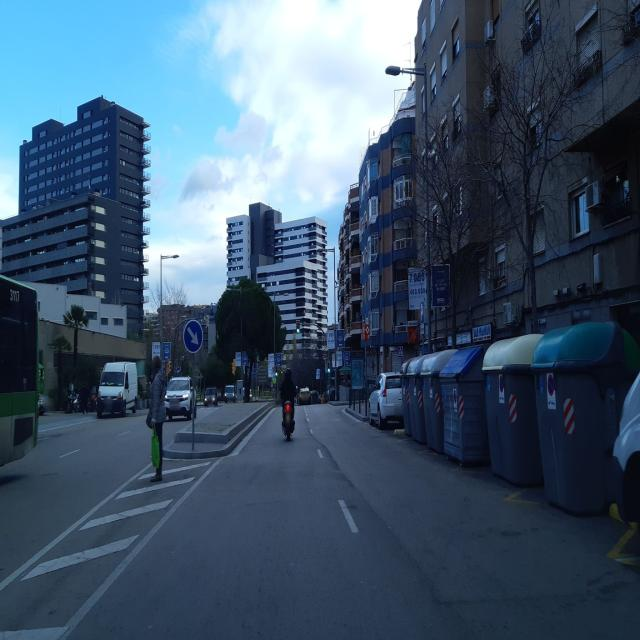forb_stopping: (547, 375, 554, 395)
